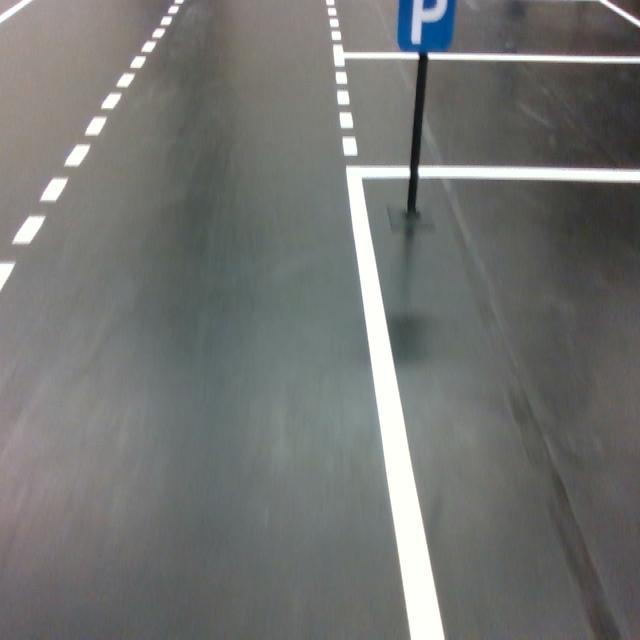parking-sign: (396, 0, 456, 52)
